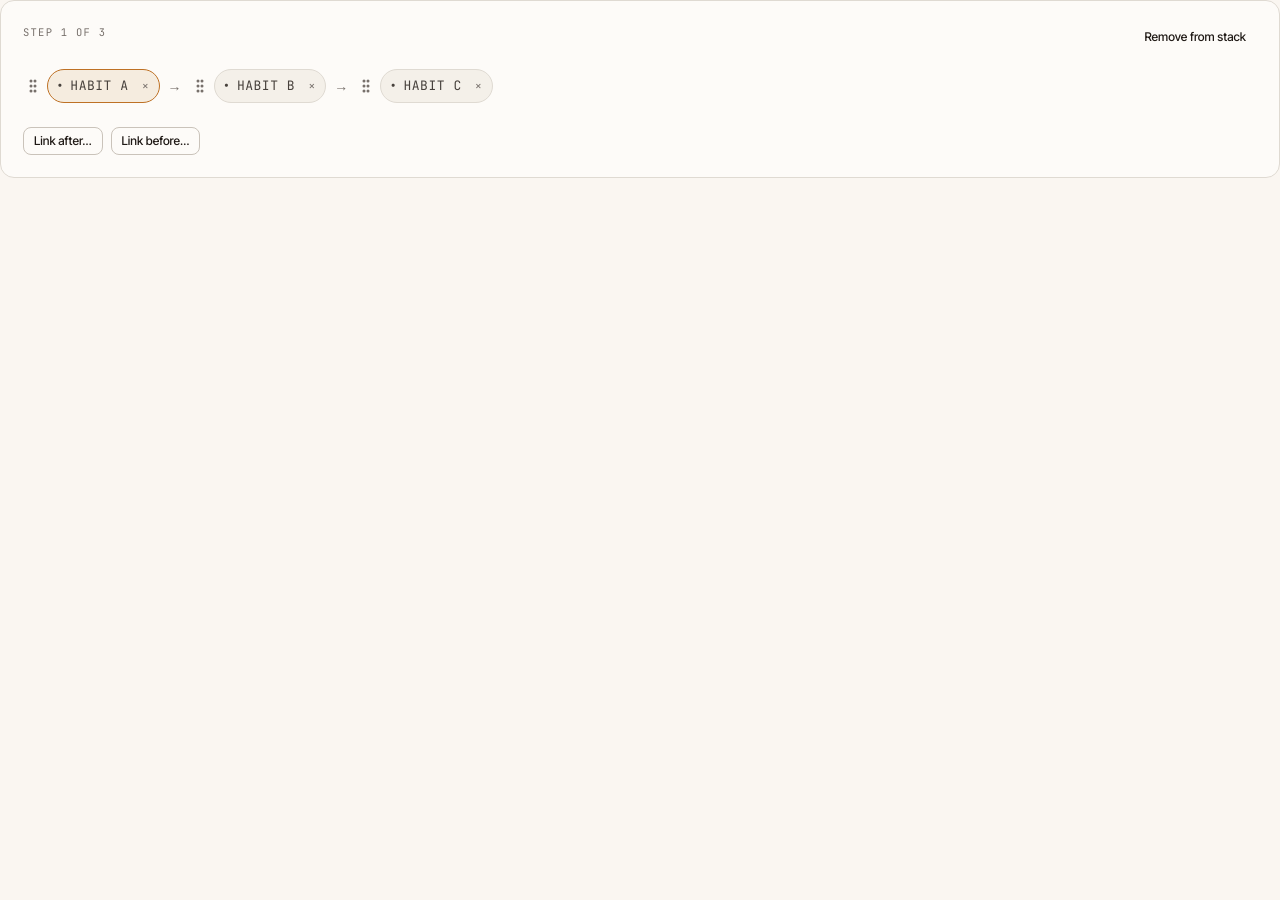
Test: StackDiagram › chain chip interactions › shows an error modal when X removal rejects
This screenshot has width=1280, height=900.
Step 1. Click the button with test id "stack-chip-remove-b" → (312, 86), box [303,77,321,95]
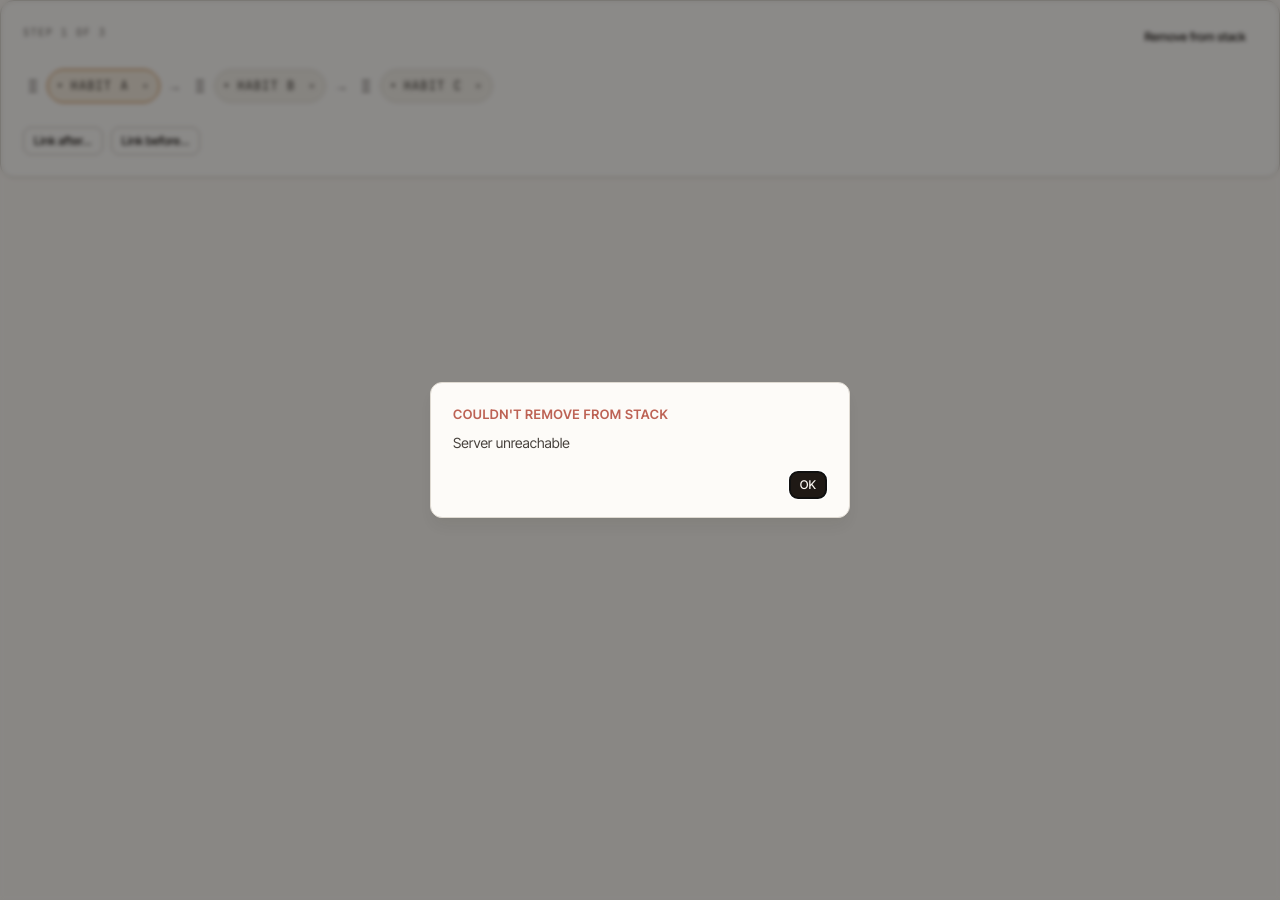
Expected: the text "Server unreachable" is shown, [453,434,570,451]
